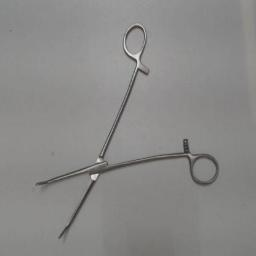Lahey Forceps: (32, 20, 222, 246)
